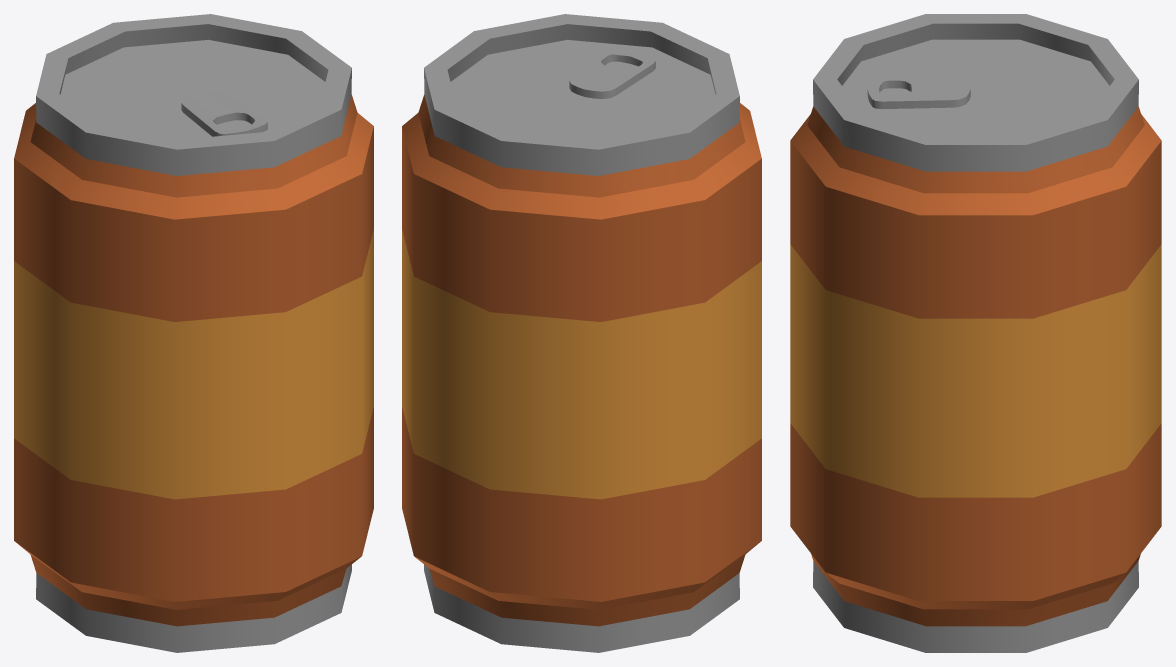
Rendered from EnergyDrink_03.fbx.
3 renders of one model, left to right at view 1: azimuth 30°, elevation 25°; view 2: azimuth 150°, elevation 25°; view 3: azimuth 270°, elevation 25°, orthographic.
Visible parts, largest first — view 1: EnergyDrink_03; view 2: EnergyDrink_03; view 3: EnergyDrink_03.
Boxes of the visible parts, x1=… form: EnergyDrink_03: x1=14, y1=14, x2=373, y2=652; EnergyDrink_03: x1=402, y1=14, x2=761, y2=652; EnergyDrink_03: x1=790, y1=14, x2=1161, y2=652.
Bounding box in the file's own units: 0.081 × 0.1286 × 0.0852.
